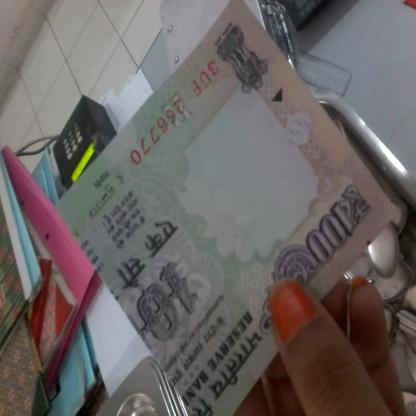Old100Front: (55, 0, 396, 416)
